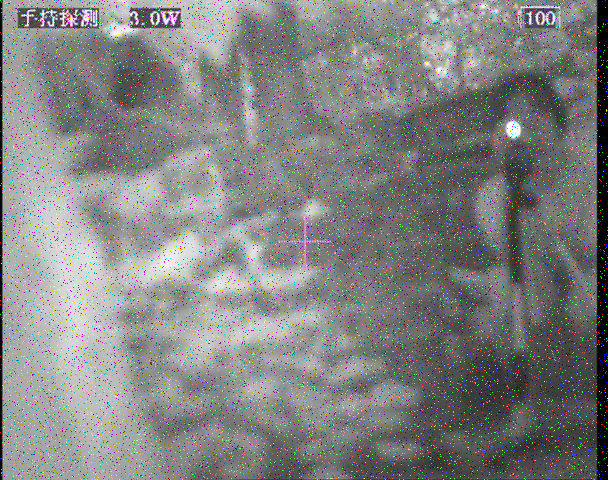my: (503, 119, 523, 139)
